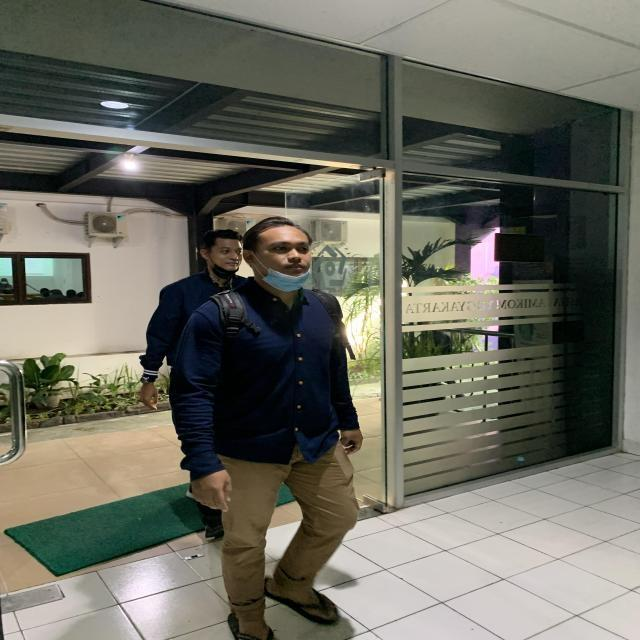hairnet: (253, 252, 316, 292), (204, 254, 244, 278)
